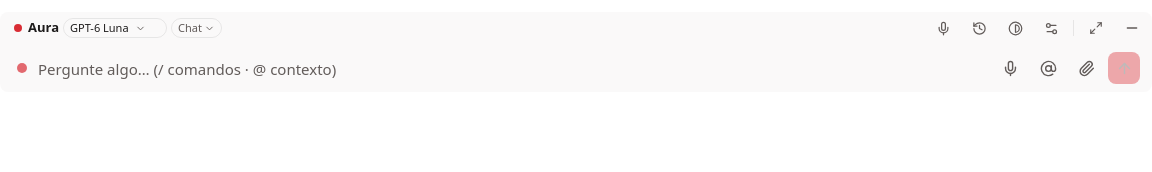
Scenario: composer menus (015) › a typed quick command shows its argument and text source (AC-005)
Type "/traduzir " into the dropdown.
click(513, 70); type("/traduzir ")  # box [38,55,988,84]
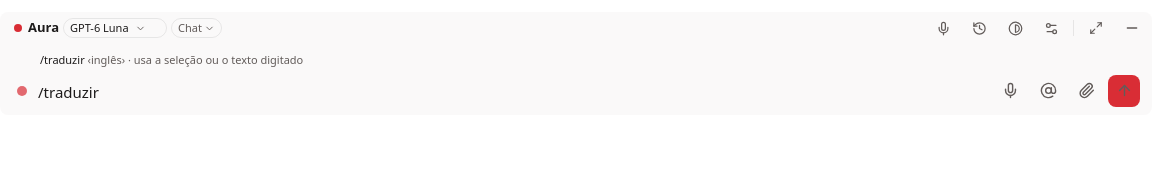
Check: the text "/traduzir ‹inglês› · usa a seleção ou o texto digitado" is shown, box [40,52,303,67]
